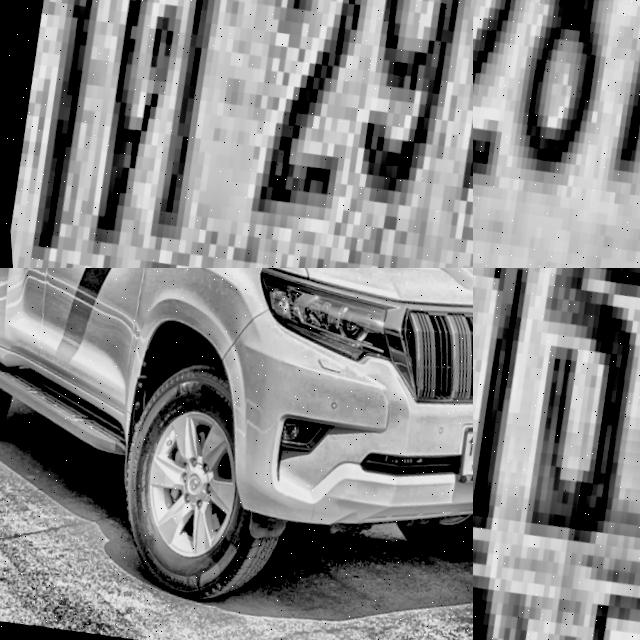license-plate: (0, 0, 473, 268), (473, 268, 640, 640), (473, 0, 640, 268), (440, 415, 473, 505)
